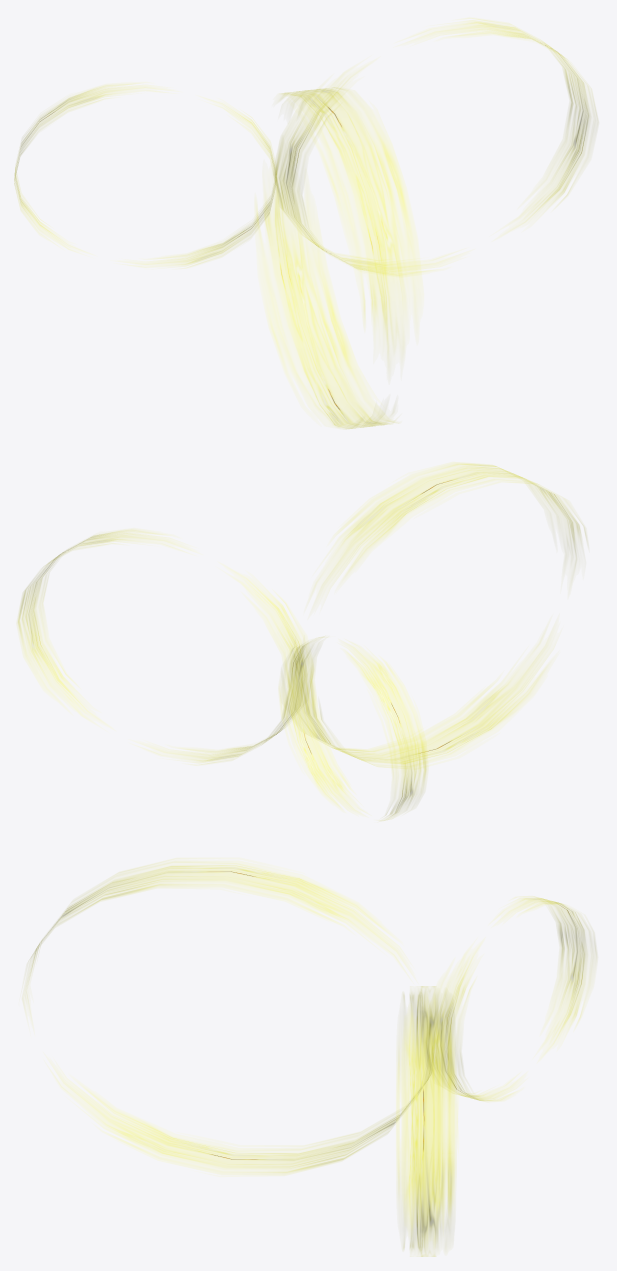
The model's file is pm-sunflare-01.glb.
The picture shows the model from 3 angles, top to bottom: view 1: azimuth 30°, elevation 25°; view 2: azimuth 150°, elevation 25°; view 3: azimuth 270°, elevation 25°; orthographic projection. The views are drawn at different scales.
Parts seen in each view (by area): view 1: Sunflare01; view 2: Sunflare01; view 3: Sunflare01.
Part boxes in pixels (x1,y1,x2,y2): Sunflare01: [14, 20, 589, 428]; Sunflare01: [18, 463, 585, 820]; Sunflare01: [30, 865, 595, 1256].
Size of the model in its own units: 75.31 by 41.17 by 76.45.
1 material, 1 textured.
